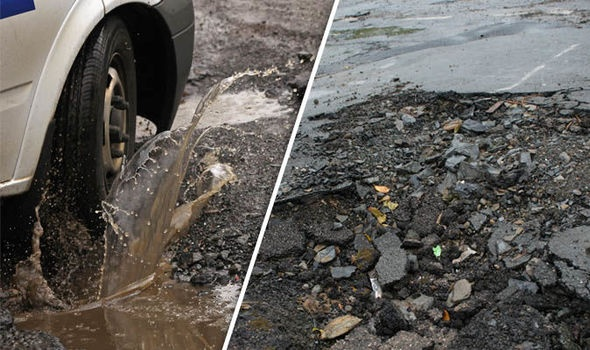pothole: (268, 67, 564, 326)
